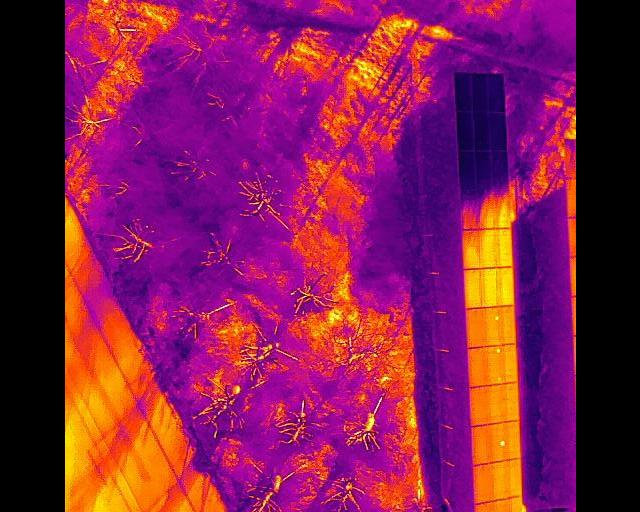Cell: (482, 307, 499, 345), (486, 424, 503, 462)
Cell-Multi: (484, 346, 500, 386)
No-Anomaly: (479, 268, 498, 307), (460, 230, 479, 268), (468, 387, 486, 426), (463, 269, 481, 308), (466, 347, 484, 386), (472, 464, 489, 504), (478, 231, 496, 268), (498, 307, 515, 346), (466, 308, 483, 347), (471, 425, 487, 466), (503, 459, 520, 497), (497, 267, 513, 306), (486, 384, 502, 423), (488, 461, 504, 500), (503, 420, 519, 459), (501, 383, 517, 420), (501, 345, 516, 384), (497, 230, 513, 266), (504, 498, 520, 512), (473, 502, 491, 512), (489, 500, 504, 512)
Shadowing: (458, 152, 477, 195), (454, 110, 472, 152), (477, 150, 494, 194), (460, 230, 479, 269), (472, 110, 490, 151), (490, 110, 508, 150), (454, 73, 472, 110), (471, 74, 489, 111), (461, 195, 479, 231), (478, 193, 496, 229), (495, 151, 510, 194), (490, 74, 504, 110), (497, 194, 510, 230)
